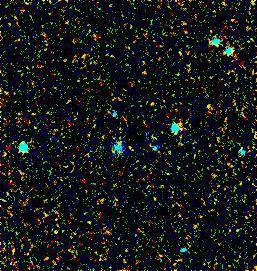star: (45, 216, 75, 246)
